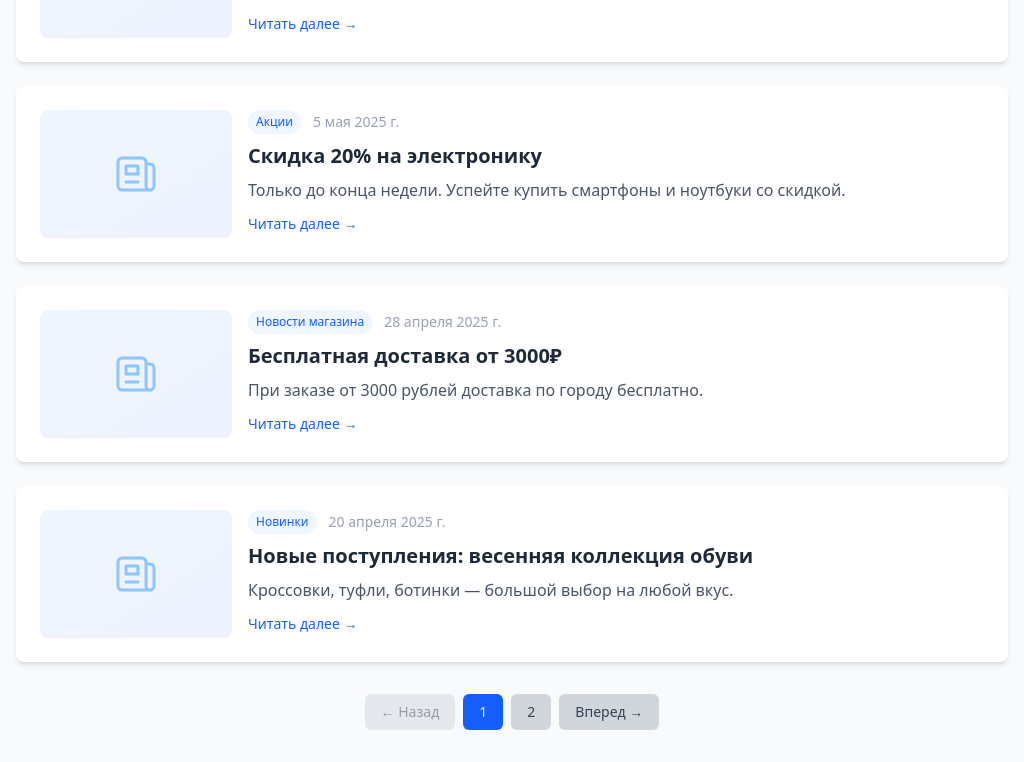
Test case: NewsPage › pagination works correctly
The image size is (1024, 762).
(page scrolled)
Expected: the navigation bar with test id "pagination" is shown, [365,694,659,730]
Click the button named "Страница 2" at (531, 712), box [511,694,551,730]
(page scrolled)
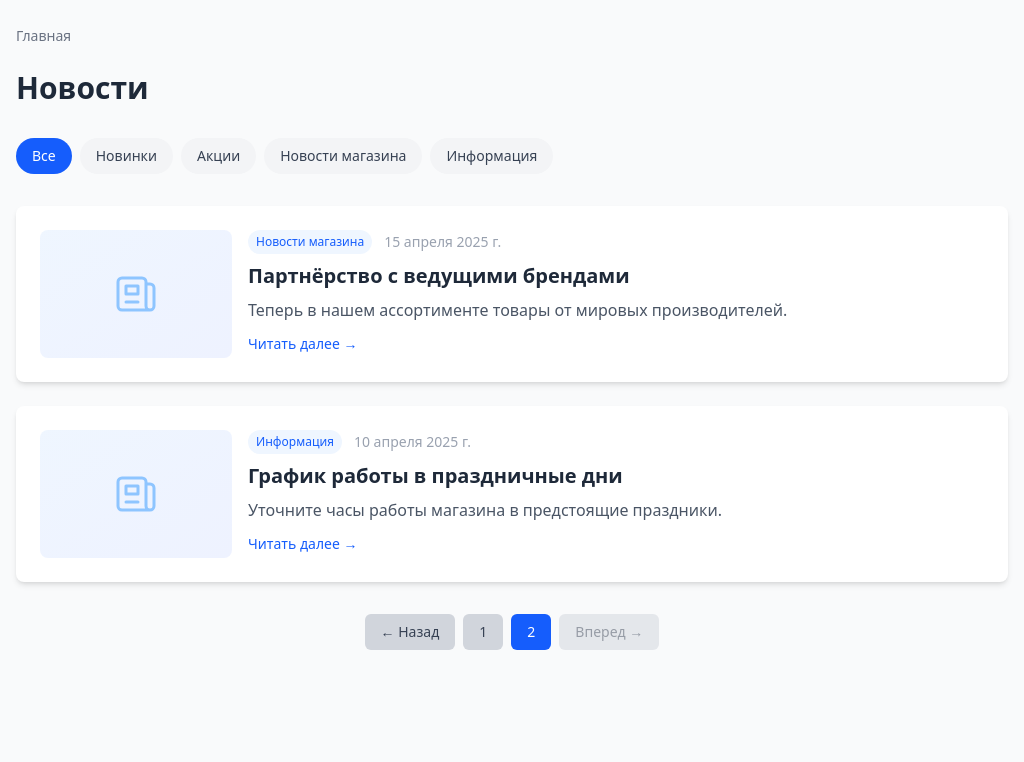
Expected: the heading "Партнёрство с ведущими брендами" is shown, [248,262,630,289]
Expected: the heading "График работы в праздничные дни" is shown, [248,462,623,489]
